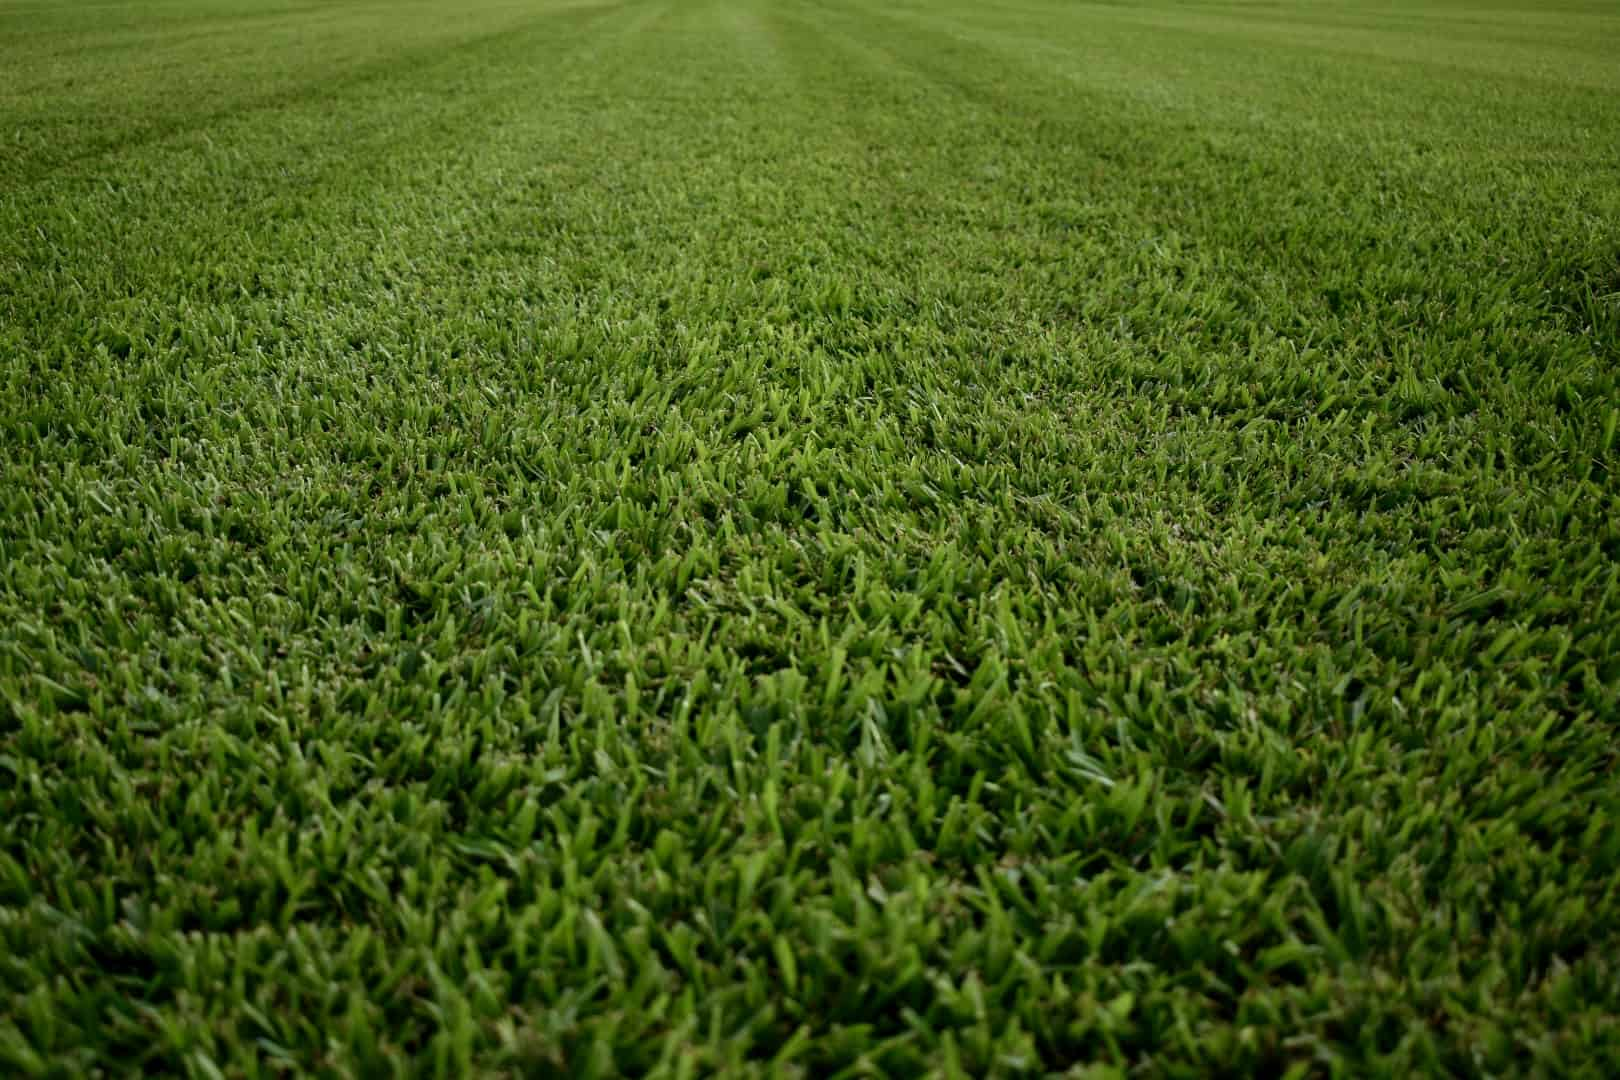grass: (5, 2, 1618, 1078)
